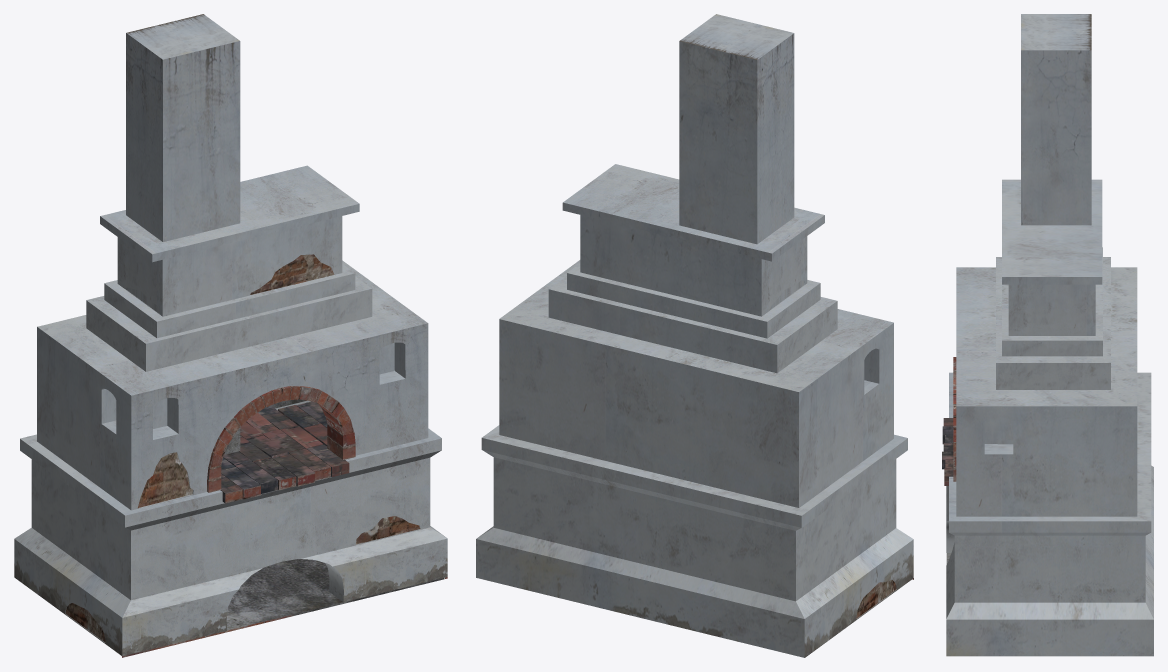
File: stove.FBX
3 renders of one model, left to right at view 1: azimuth 30°, elevation 25°; view 2: azimuth 150°, elevation 25°; view 3: azimuth 270°, elevation 25°, orthographic. The views are drawn at different scales.
Visible parts, largest first — view 1: stove; view 2: stove; view 3: stove.
Part boxes in pixels (left/top/right/bottom): stove: left=14, top=14, right=447, bottom=657; stove: left=476, top=14, right=913, bottom=657; stove: left=942, top=14, right=1153, bottom=656.
Bounding box in the file's own units: 257 × 415 × 151.
